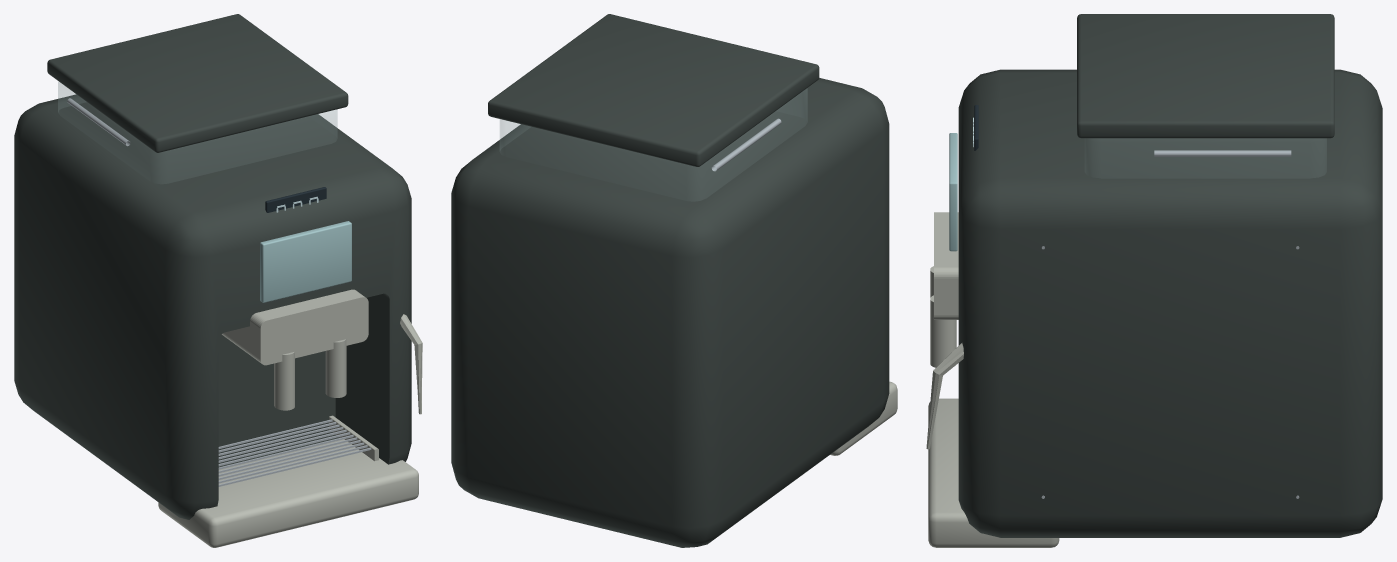
Rendered from bean-coffee-machine.glb.
The picture shows the model from 3 angles, left to right: view 1: azimuth 30°, elevation 25°; view 2: azimuth 150°, elevation 25°; view 3: azimuth 270°, elevation 25°; orthographic projection. The views are drawn at different scales.
Visible parts, largest first — view 1: catalog_surface_RealismUV, catalog_surface_UVMap; view 2: catalog_surface_RealismUV, catalog_surface_UVMap; view 3: catalog_surface_RealismUV, catalog_surface_UVMap.
Boxes of the visible parts, x1,y1,x2,y2 form: catalog_surface_RealismUV: (14, 14, 422, 547); catalog_surface_UVMap: (58, 81, 351, 302); catalog_surface_RealismUV: (451, 14, 897, 547); catalog_surface_UVMap: (500, 89, 807, 200); catalog_surface_RealismUV: (926, 14, 1382, 547); catalog_surface_UVMap: (949, 105, 1326, 251).
Bounding box in the file's own units: 0.3 × 0.43 × 0.42.
